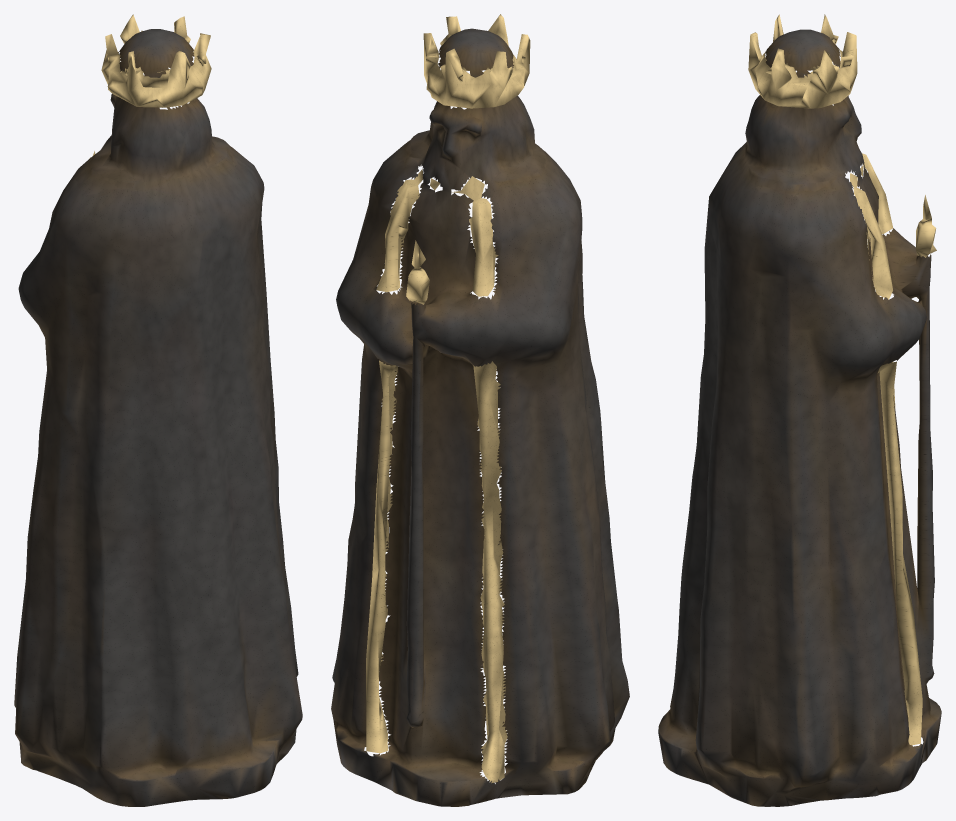
File: king-black.glb
The picture shows the model from 3 angles, left to right: view 1: azimuth 30°, elevation 25°; view 2: azimuth 150°, elevation 25°; view 3: azimuth 270°, elevation 25°; orthographic projection.
Parts seen in each view (by area): view 1: Argent Reliquary – Black King; view 2: Argent Reliquary – Black King; view 3: Argent Reliquary – Black King.
Boxes of the visible parts, x1,y1,x2,y2 form: Argent Reliquary – Black King: (14,14,302,806); Argent Reliquary – Black King: (331,14,629,806); Argent Reliquary – Black King: (658,14,941,806).
Size of the model in its own units: 0.6626 by 1.65 by 0.5879.
2 materials, 2 textured.
